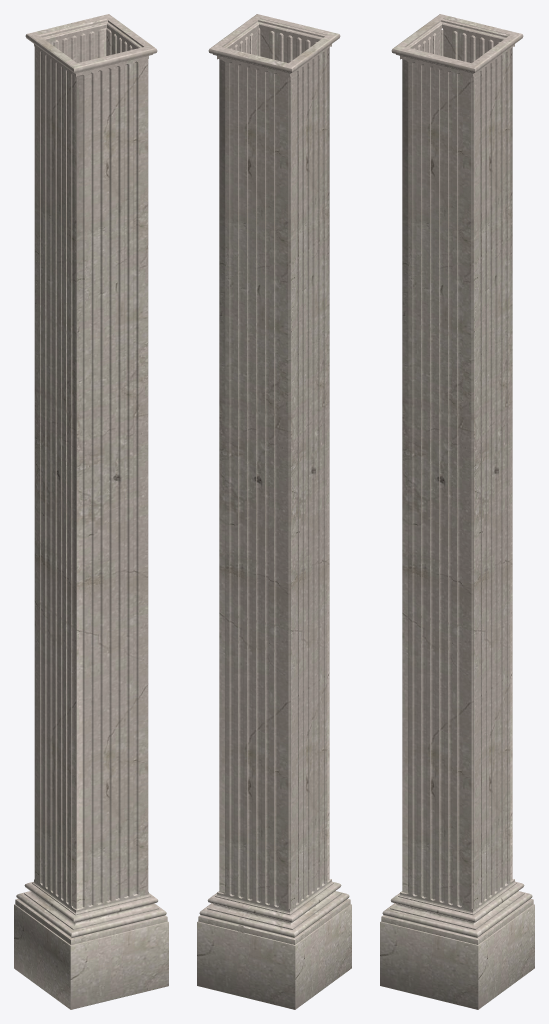
The model's file is pasted__marble_tile_196.fbx.
The picture shows the model from 3 angles, left to right: view 1: azimuth 30°, elevation 25°; view 2: azimuth 150°, elevation 25°; view 3: azimuth 330°, elevation 25°; orthographic projection.
Visible parts, largest first — view 1: pasted__Node_1413; view 2: pasted__Node_1413; view 3: pasted__Node_1413.
Boxes of the visible parts, x1=… form: pasted__Node_1413: x1=14, y1=14, x2=168, y2=1009; pasted__Node_1413: x1=197, y1=14, x2=351, y2=1009; pasted__Node_1413: x1=380, y1=14, x2=534, y2=1009.
Size of the model in its own units: 30.44 by 30.44 by 278.
